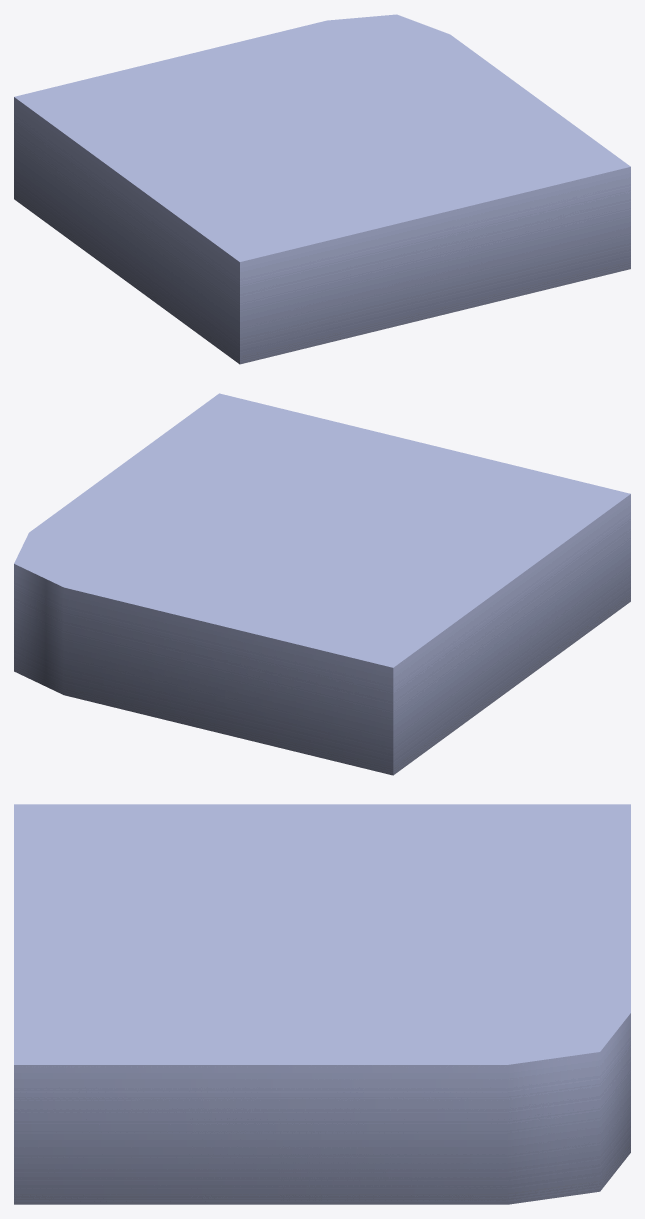
File: floor-thick-corner-rounded.glb
The picture shows the model from 3 angles, top to bottom: view 1: azimuth 30°, elevation 25°; view 2: azimuth 150°, elevation 25°; view 3: azimuth 270°, elevation 25°; orthographic projection. The views are drawn at different scales.
Parts seen in each view (by area): view 1: floor-thick-corner-rounded; view 2: floor-thick-corner-rounded; view 3: floor-thick-corner-rounded.
Boxes of the visible parts, bbox=[...] form: floor-thick-corner-rounded: bbox=[14, 14, 630, 364]; floor-thick-corner-rounded: bbox=[14, 393, 630, 775]; floor-thick-corner-rounded: bbox=[14, 804, 630, 1204].
Bounding box in the file's own units: 1 × 0.25 × 1.
1 material, 1 textured.
